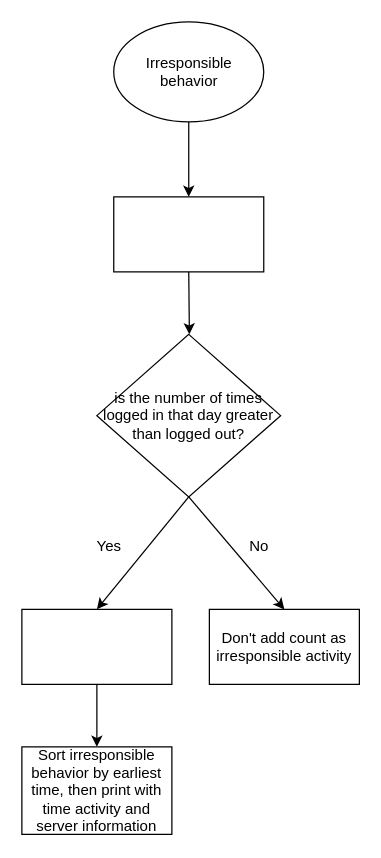
The diagram is 381 pixels wide and 858 high, and some of its shapes have lost their labels. Each missing label, with the centre of its shape:
Add count as irresponsible activity: the point at 96,646
Count how many times an email logs in and out the same day: the point at 188,234
